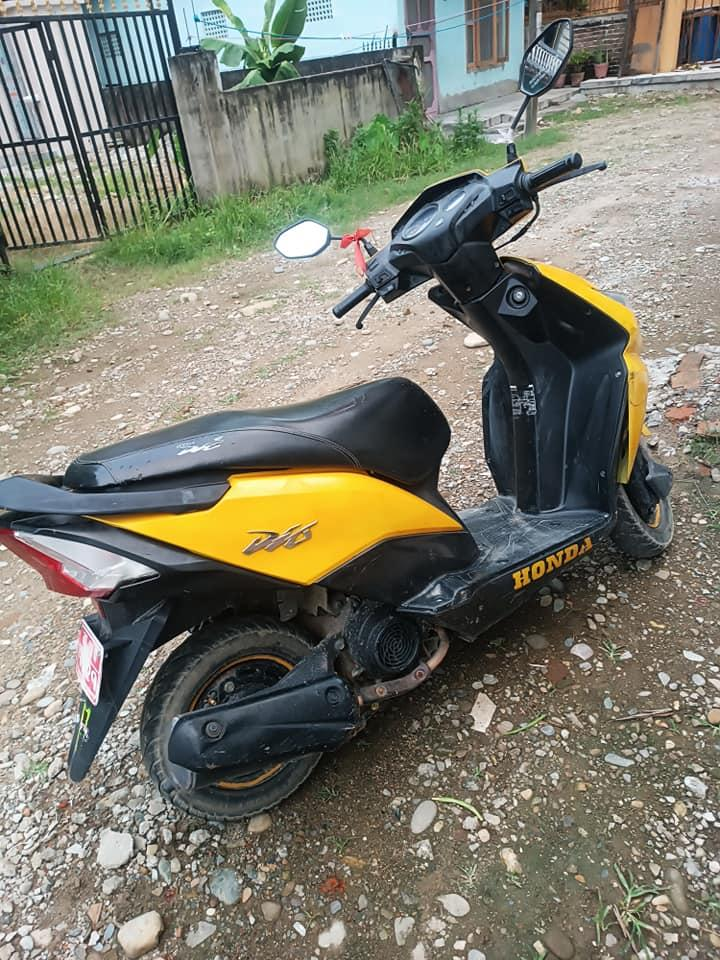scooter: (4, 141, 691, 820)
